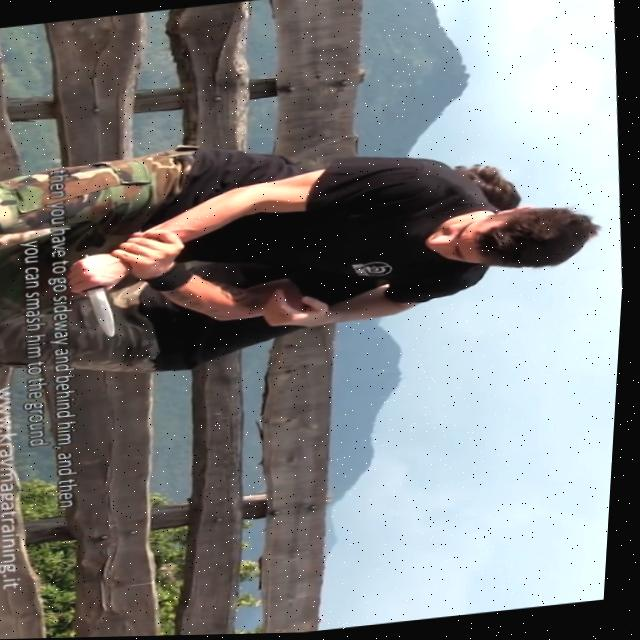knife: (81, 283, 133, 342)
